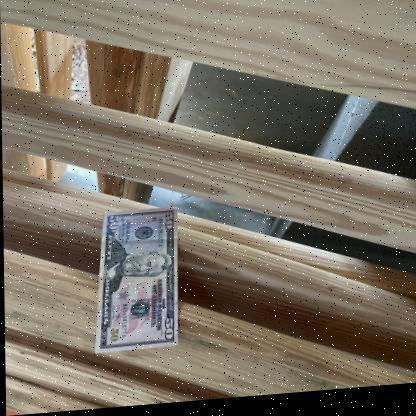fifty-front: (94, 210, 178, 356)
